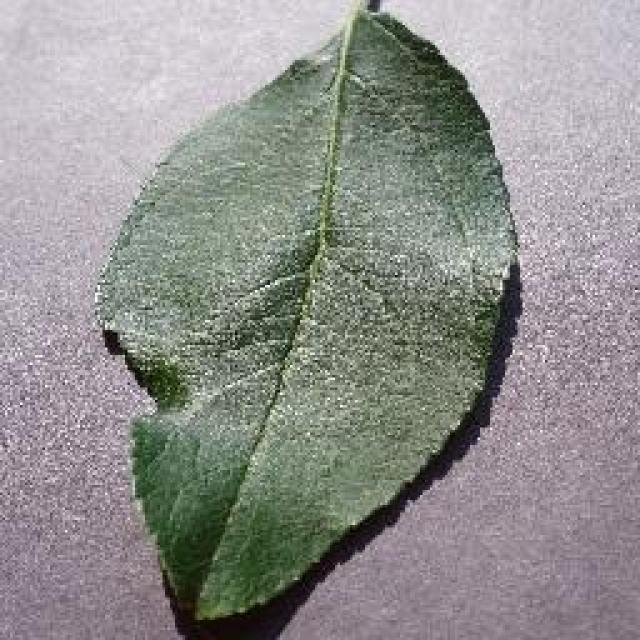apple healthy: (89, 0, 522, 632)
